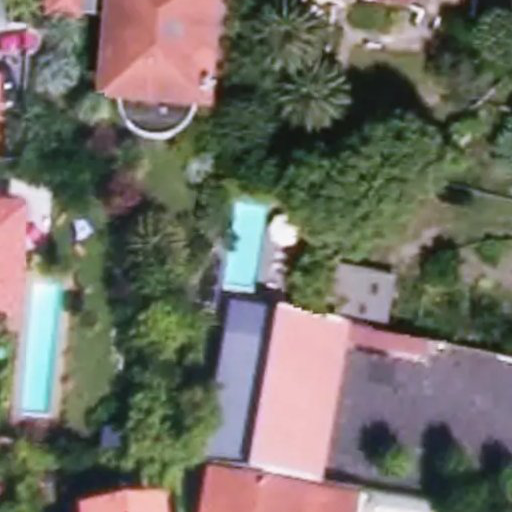pool: (19, 279, 65, 420), (221, 197, 268, 296)
